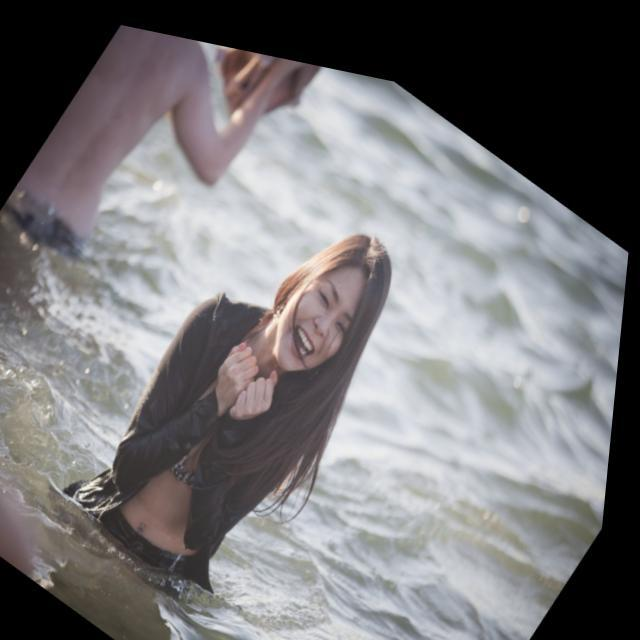Nonhelmet: (250, 219, 400, 379)
